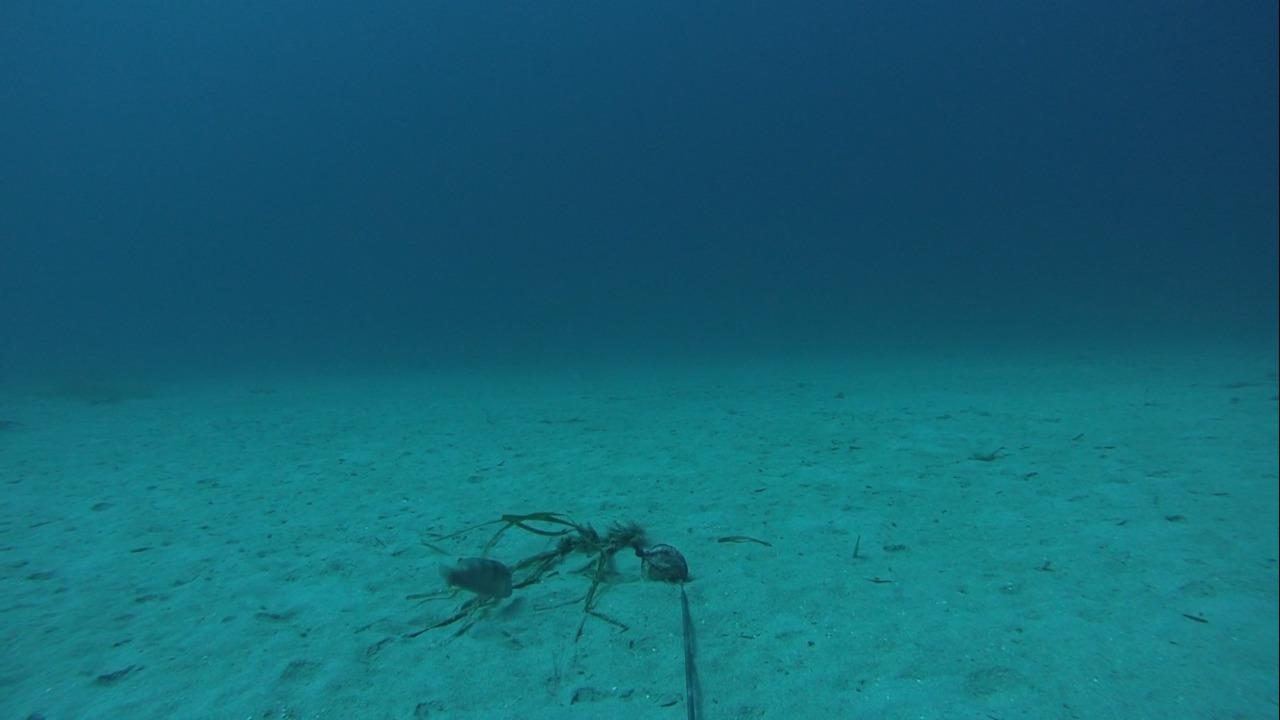raor: (433, 553, 517, 601)
